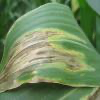Corn leaf blight: (1, 6, 100, 86)
